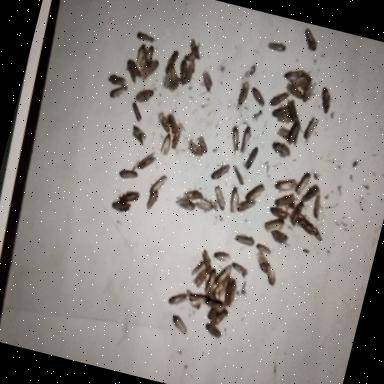pbw: (243, 180, 266, 206), (212, 260, 232, 288), (210, 184, 230, 212), (136, 148, 158, 173), (122, 58, 144, 83), (282, 98, 303, 124), (190, 254, 212, 278), (139, 56, 159, 82), (197, 248, 217, 274), (273, 191, 300, 210), (222, 276, 238, 308), (300, 27, 321, 51), (213, 273, 231, 301), (302, 115, 320, 142), (180, 286, 202, 308), (273, 174, 297, 194), (252, 250, 272, 274), (294, 216, 318, 236), (148, 172, 168, 196), (226, 124, 243, 152), (300, 181, 320, 204), (164, 62, 183, 86), (288, 200, 304, 228), (226, 186, 242, 214), (269, 88, 290, 109), (210, 160, 230, 182), (270, 140, 292, 160), (182, 186, 206, 204), (192, 266, 210, 290), (229, 258, 250, 278), (203, 266, 218, 294), (263, 214, 285, 233), (118, 188, 140, 207), (185, 38, 204, 60), (286, 120, 302, 146), (206, 299, 224, 322), (210, 306, 228, 329), (170, 121, 184, 150), (170, 314, 190, 334), (295, 170, 311, 195), (302, 78, 318, 103), (236, 196, 256, 216), (165, 48, 181, 73), (202, 321, 224, 339), (268, 228, 290, 246), (267, 204, 291, 220), (176, 60, 192, 84), (164, 112, 180, 136), (310, 192, 324, 219), (130, 125, 148, 146), (195, 196, 216, 214), (284, 66, 306, 83), (318, 87, 332, 113), (249, 86, 268, 105), (185, 139, 204, 158), (134, 86, 154, 104), (232, 232, 256, 247), (230, 165, 248, 185), (174, 196, 196, 212), (240, 125, 253, 152), (145, 187, 160, 210), (128, 102, 145, 122), (237, 80, 250, 106), (117, 166, 138, 182), (292, 72, 313, 88), (244, 146, 258, 170), (159, 132, 173, 156), (142, 43, 156, 66), (168, 290, 188, 306), (194, 134, 210, 154), (107, 72, 127, 88), (284, 83, 304, 99), (187, 290, 207, 306), (200, 71, 214, 93), (134, 42, 148, 64), (264, 264, 278, 286), (110, 82, 128, 99), (271, 103, 291, 118), (184, 57, 196, 82), (134, 31, 156, 44), (158, 112, 172, 132), (266, 40, 286, 53), (110, 200, 130, 213), (212, 249, 232, 262), (204, 297, 222, 310), (275, 126, 291, 140), (276, 112, 293, 125), (254, 243, 272, 255), (182, 50, 197, 63)
